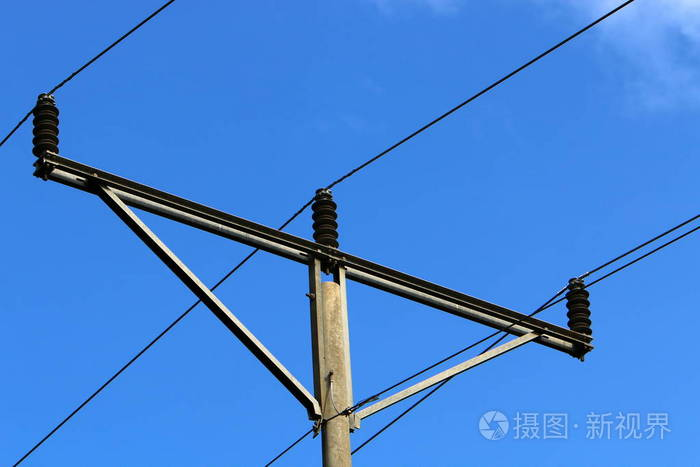insulator: (29, 102, 63, 155), (309, 199, 341, 245), (565, 287, 594, 334)
